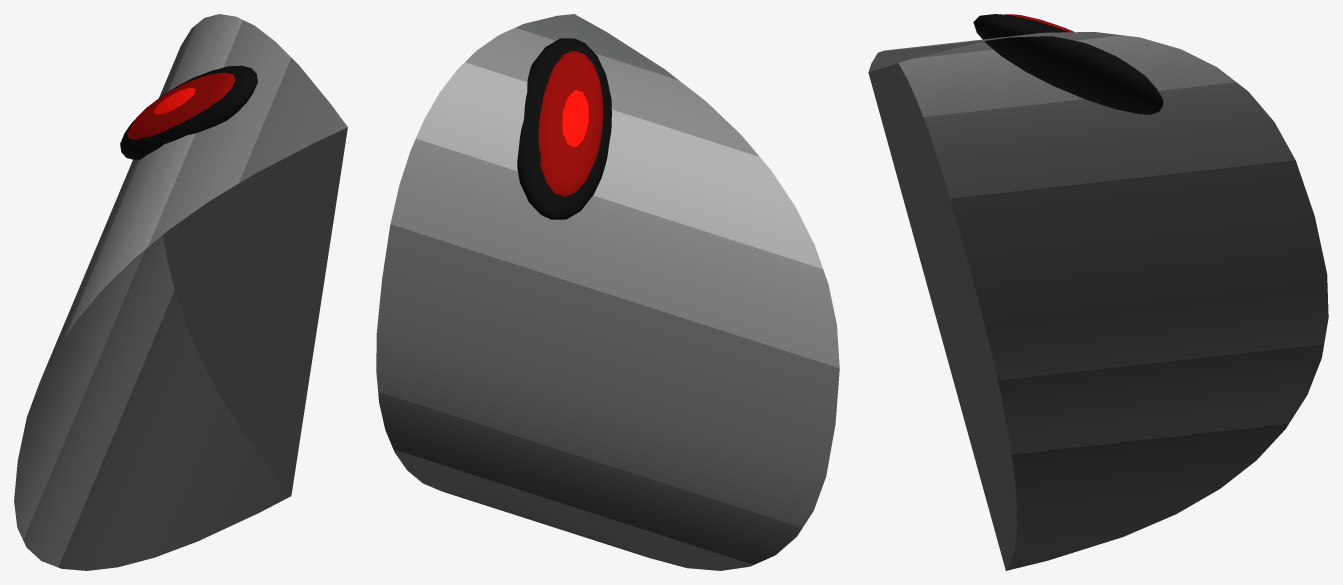
Rendered from mortar_breech.glb.
3 renders of one model, left to right at view 1: azimuth 30°, elevation 25°; view 2: azimuth 150°, elevation 25°; view 3: azimuth 270°, elevation 25°, orthographic. The views are drawn at different scales.
Parts seen in each view (by area): view 1: mortar_breech; view 2: mortar_breech; view 3: mortar_breech.
Part boxes in pixels (x1,y1,x2,y2): mortar_breech: (14,14,347,570); mortar_breech: (376,14,839,570); mortar_breech: (868,14,1328,570).
Size of the model in its own units: 9.2 by 14.47 by 10.41.
